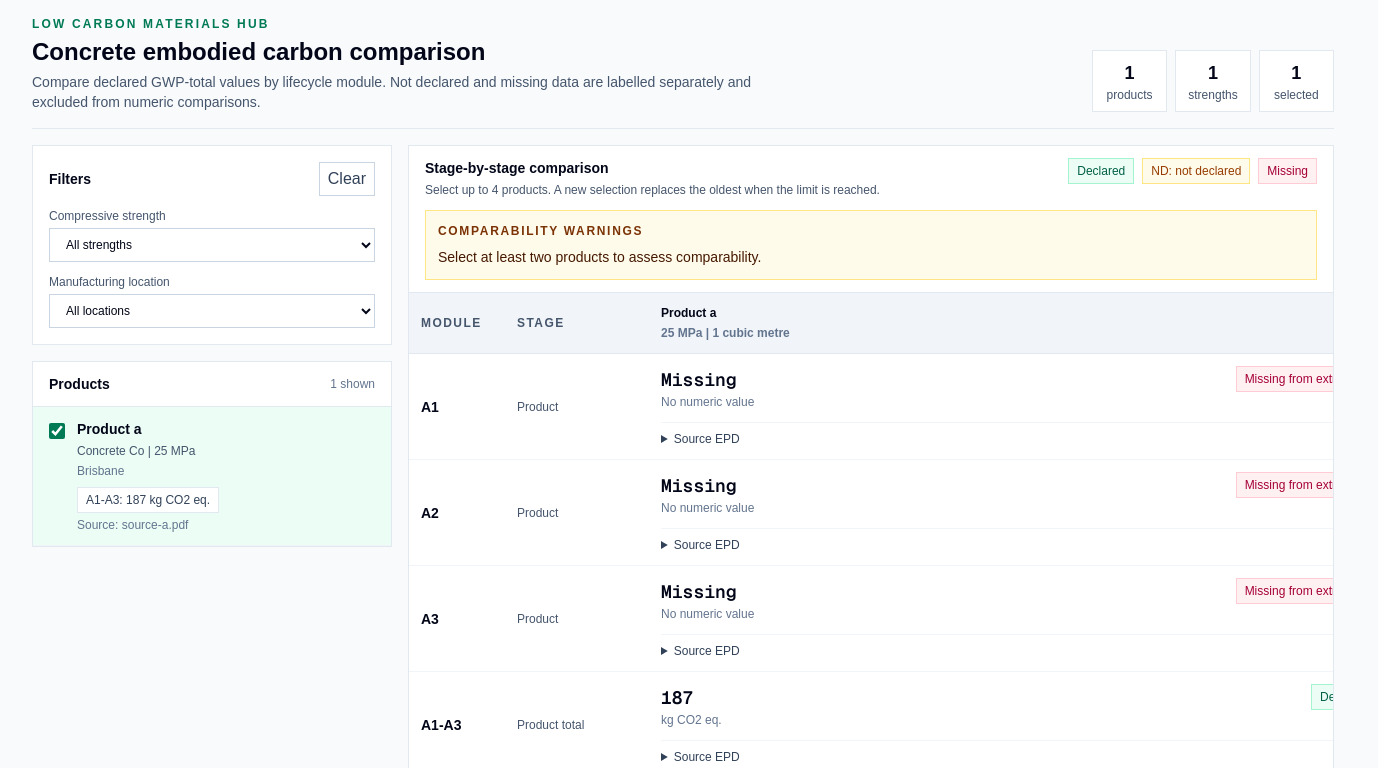
Test: CarbonComparisonApp › shows an empty state when filters remove all products
This screenshot has width=1378, height=768.
Select "Melbourne" in the dropdown labelled "Manufacturing location". click: coordinates (212, 311)
box: [49,294,375,328]
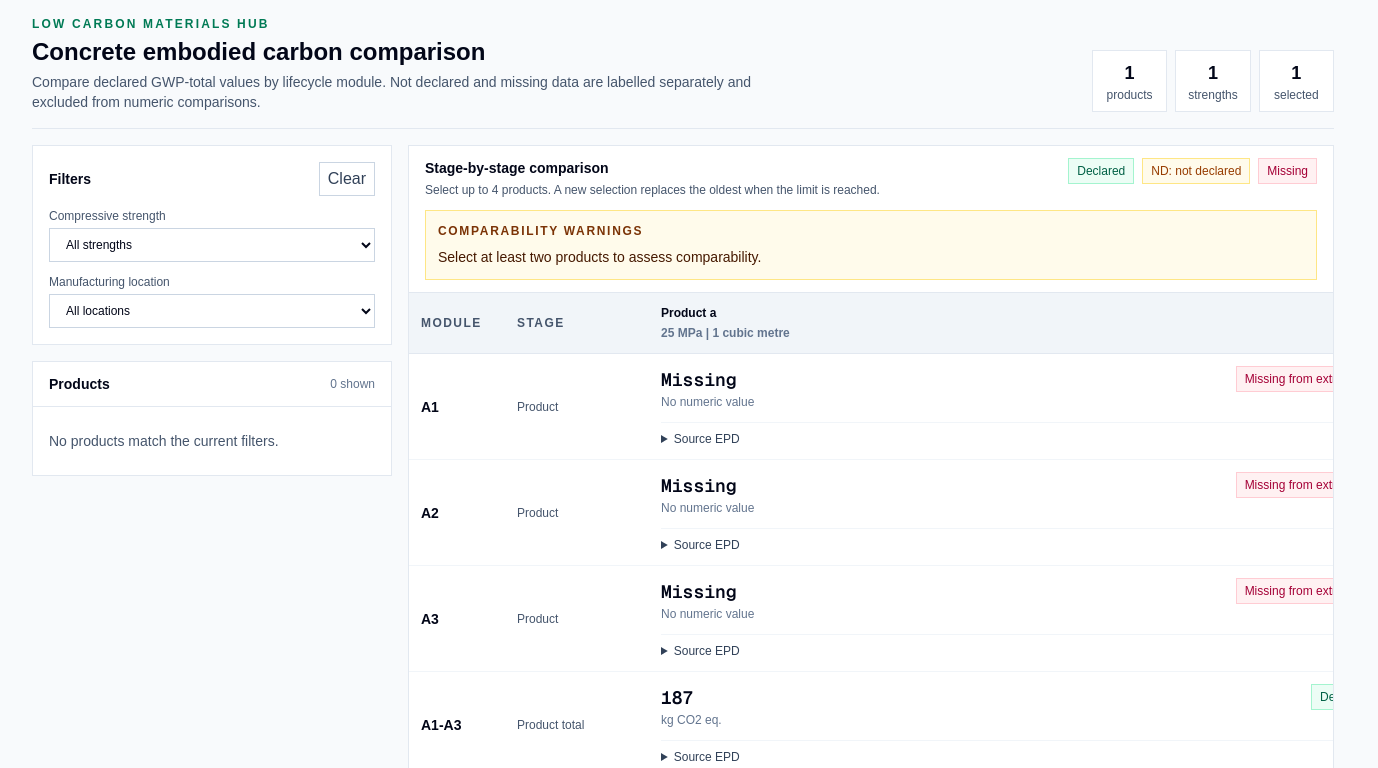
Check: the text "No products match the current filters." is shown, box [49,433,278,449]
